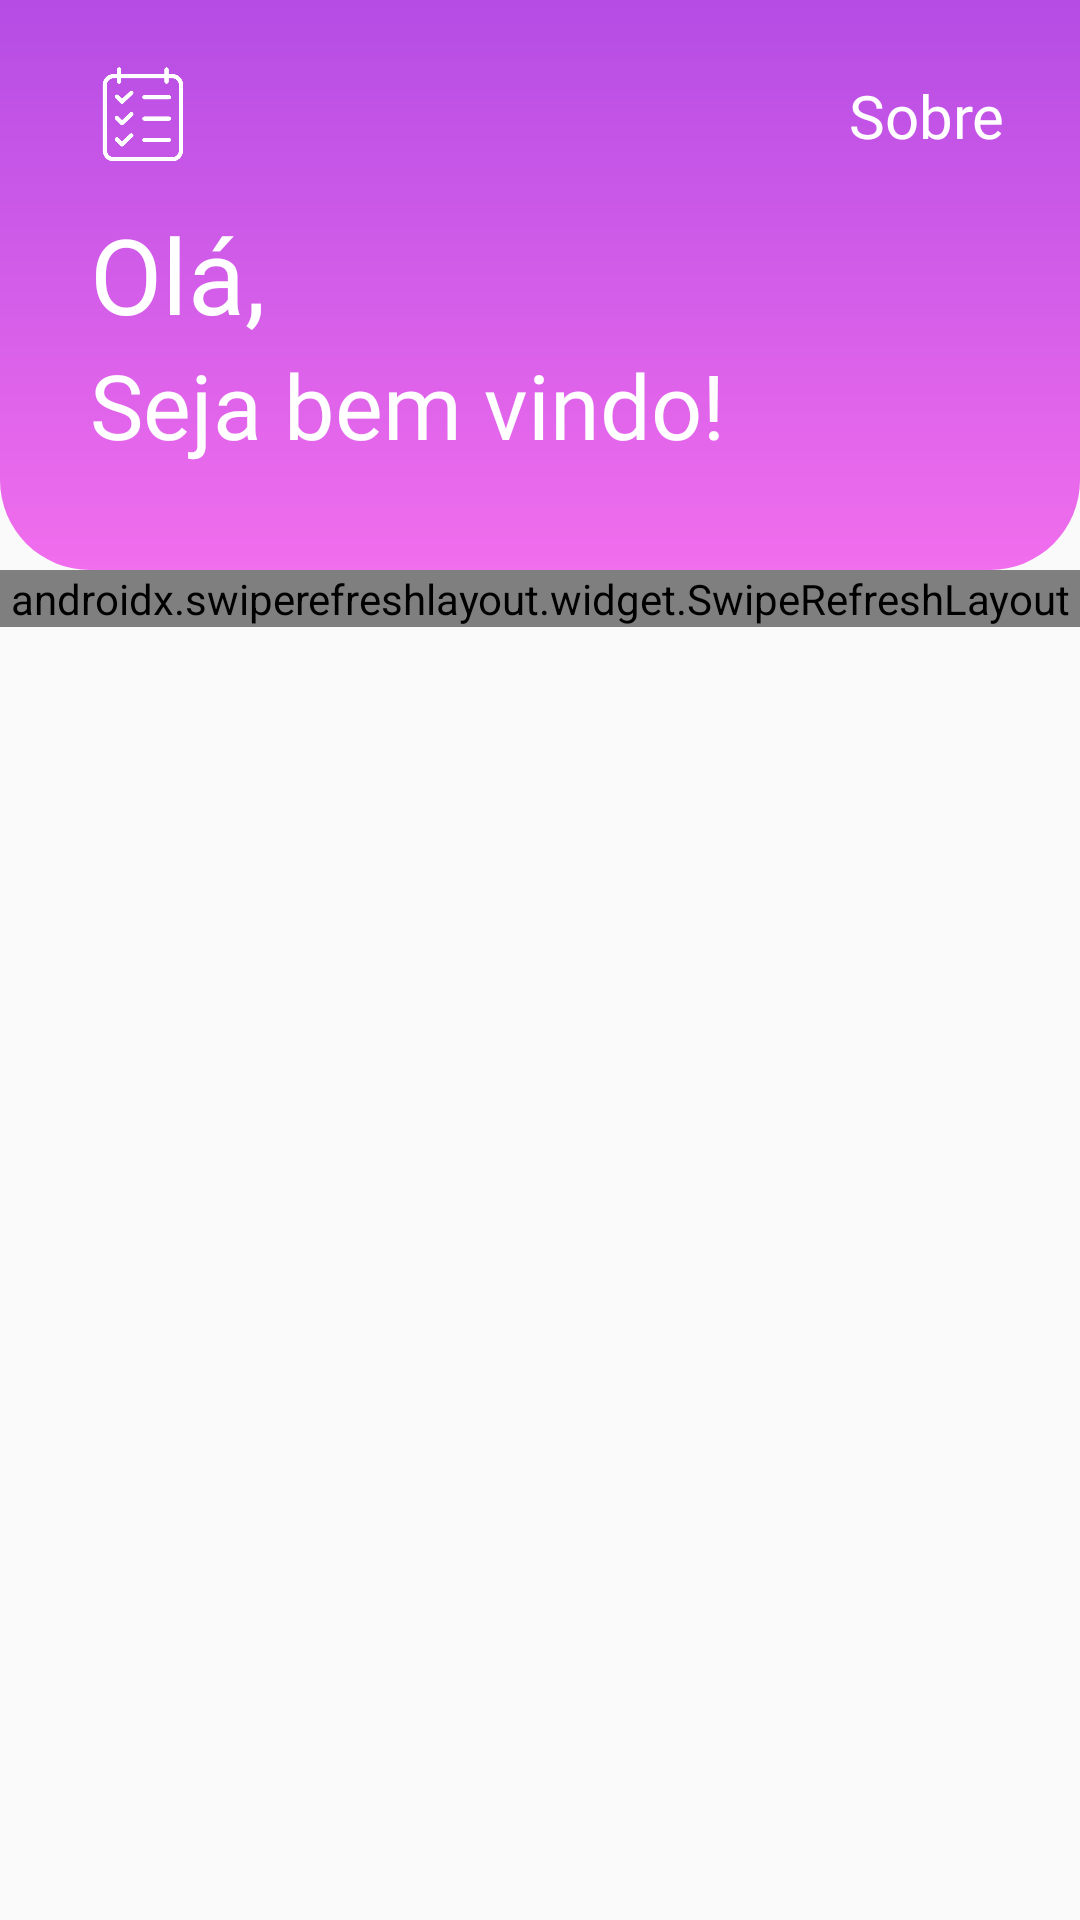

Icon click points for this 1080px×1920px phone screenshot, format (x=x, y=y):
tasklist: (x=143, y=114)
